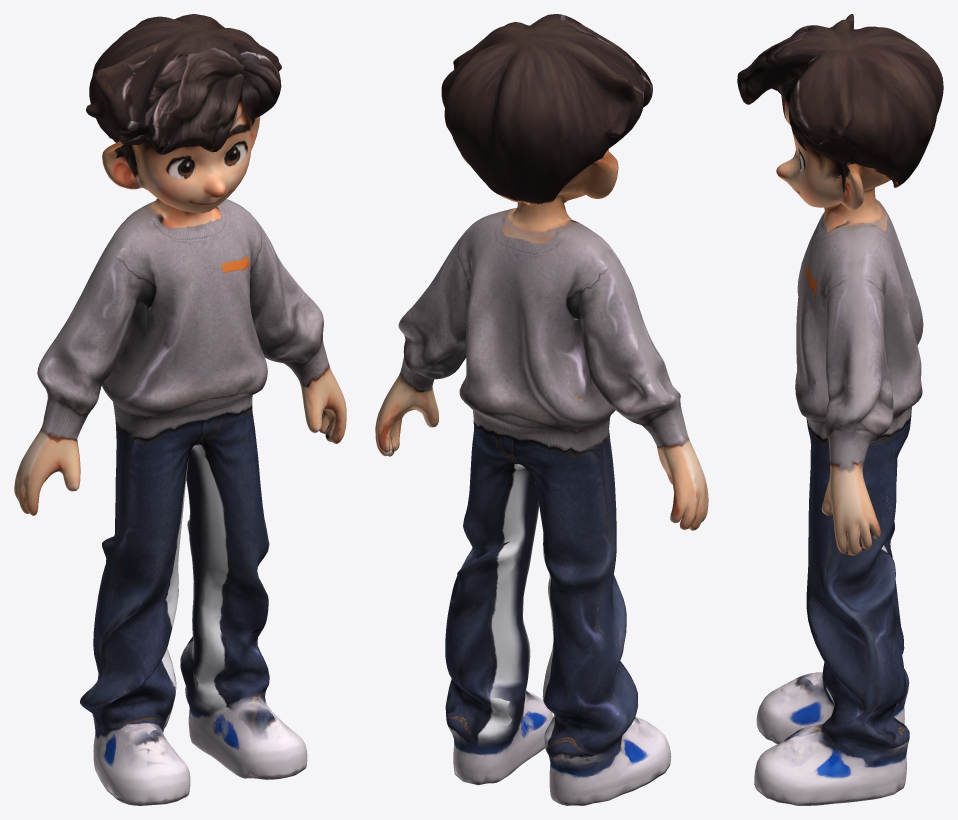
The model's file is player_boy_stage.glb.
The picture shows the model from 3 angles, left to right: view 1: azimuth 30°, elevation 25°; view 2: azimuth 150°, elevation 25°; view 3: azimuth 270°, elevation 25°; orthographic projection.
Visible parts, largest first — view 1: PlayerBoy; view 2: PlayerBoy; view 3: PlayerBoy.
Boxes of the visible parts, <box> form: PlayerBoy: <box>14,14,346,805</box>; PlayerBoy: <box>375,14,708,805</box>; PlayerBoy: <box>737,14,943,805</box>.
Bounding box in the file's own units: 0.656 × 1.42 × 0.3637.
1 material, 1 textured.
